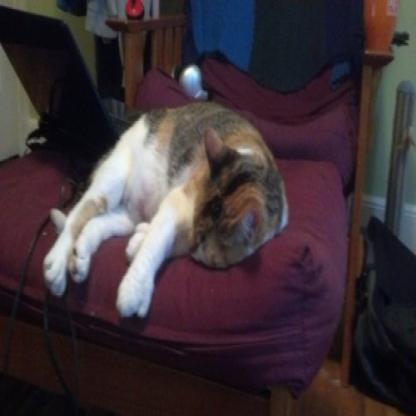Target: (49, 86, 292, 320)
